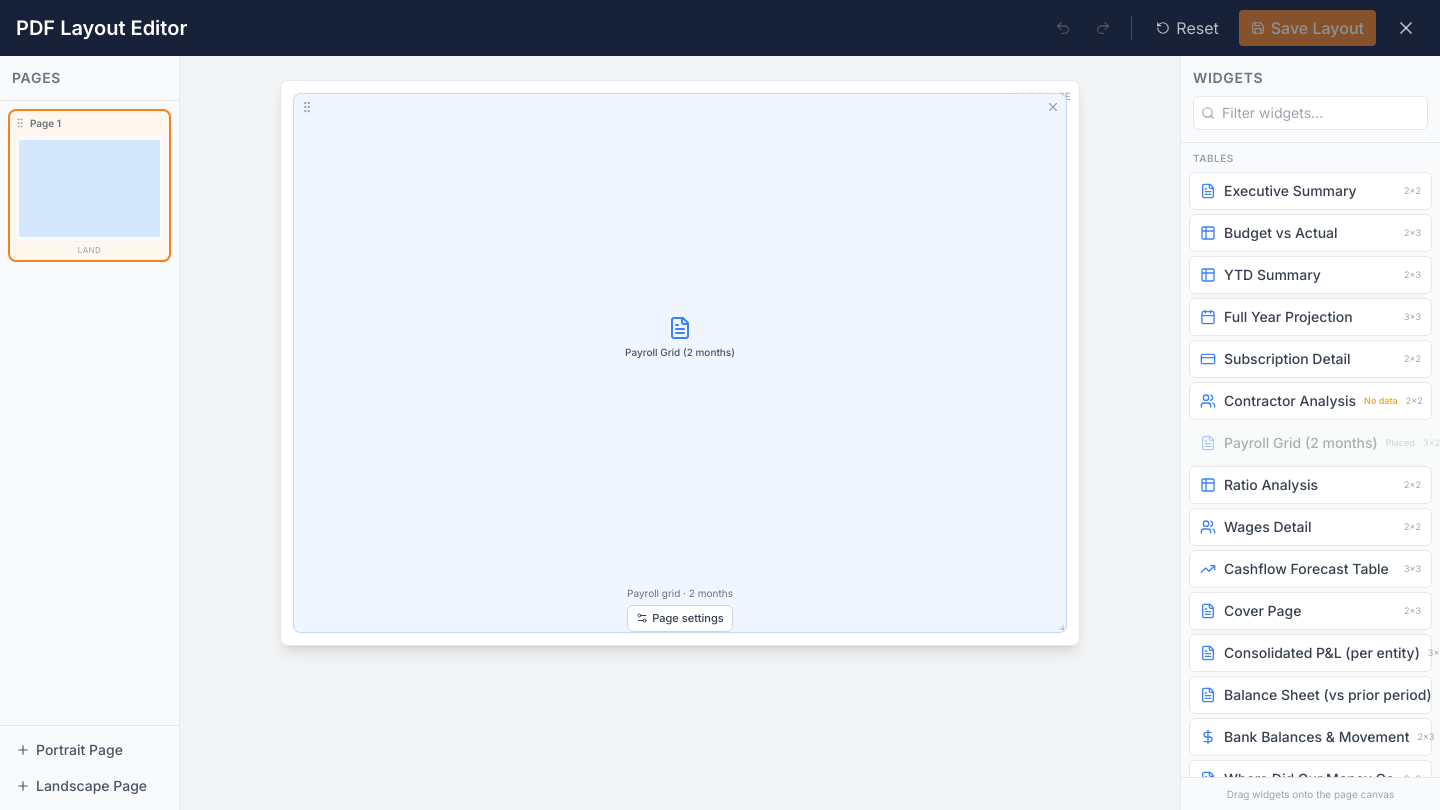
Distinct Directions' payrun pages › settings the page would refuse cannot be applied, and say why
Step 1. Click the button "Page settings" → (680, 618), box [627, 605, 733, 632]
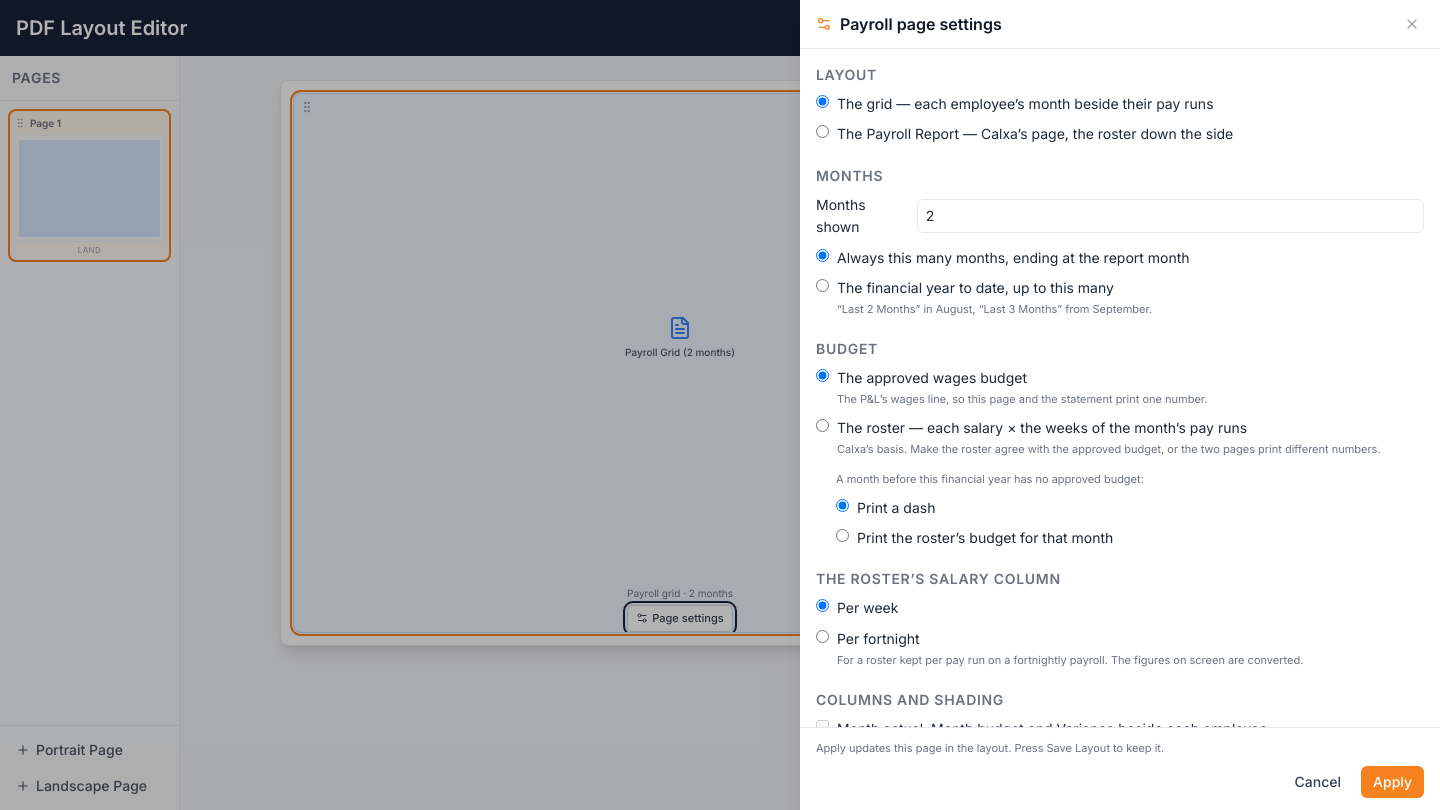
Step 2. Replace the text in the field labelled "Months shown" with "9" → (1170, 216), box [917, 199, 1424, 233]
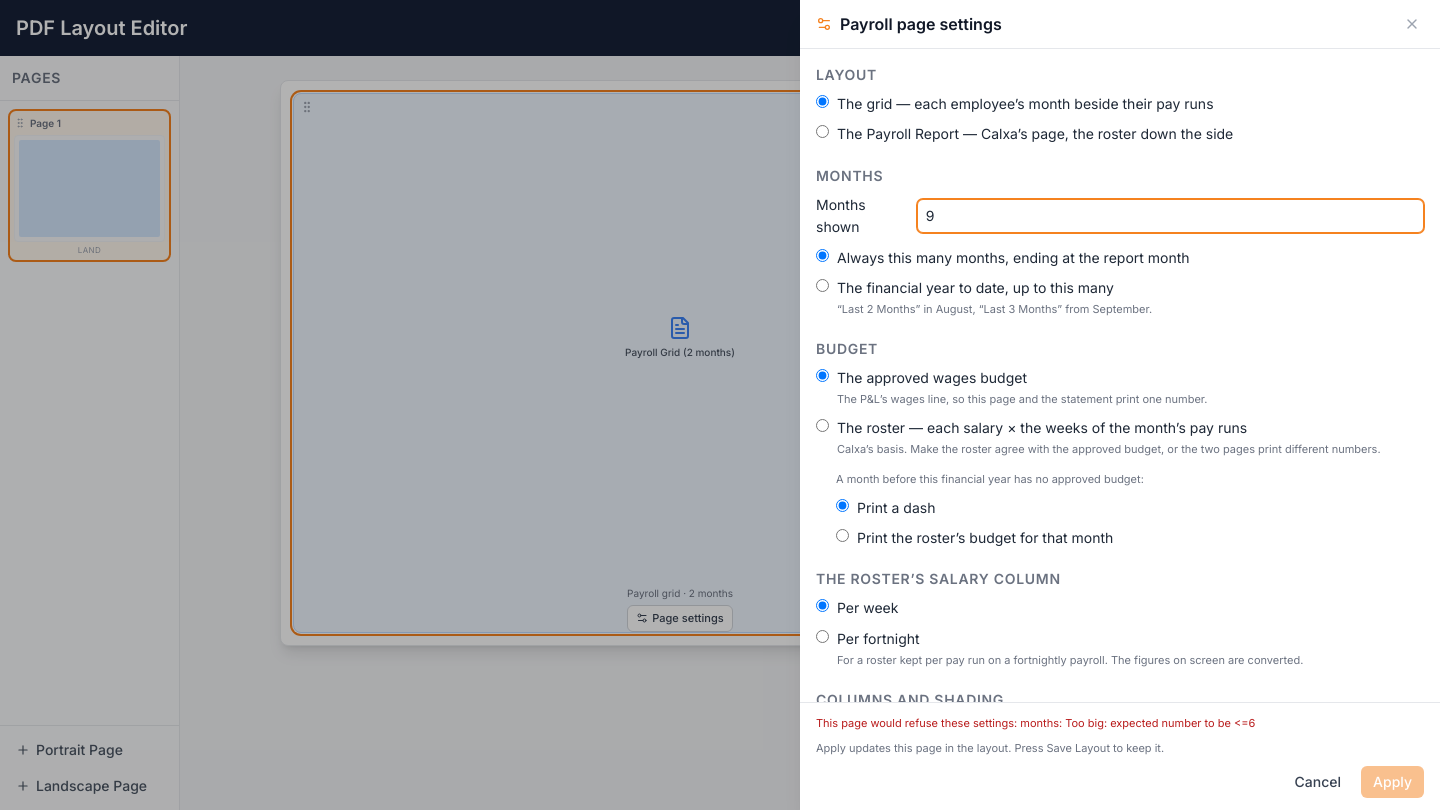
Expected: the text "would refuse these settings" is shown, [816, 716, 1020, 730]
Expected: the button "Apply" is disabled, [1361, 766, 1424, 798]
